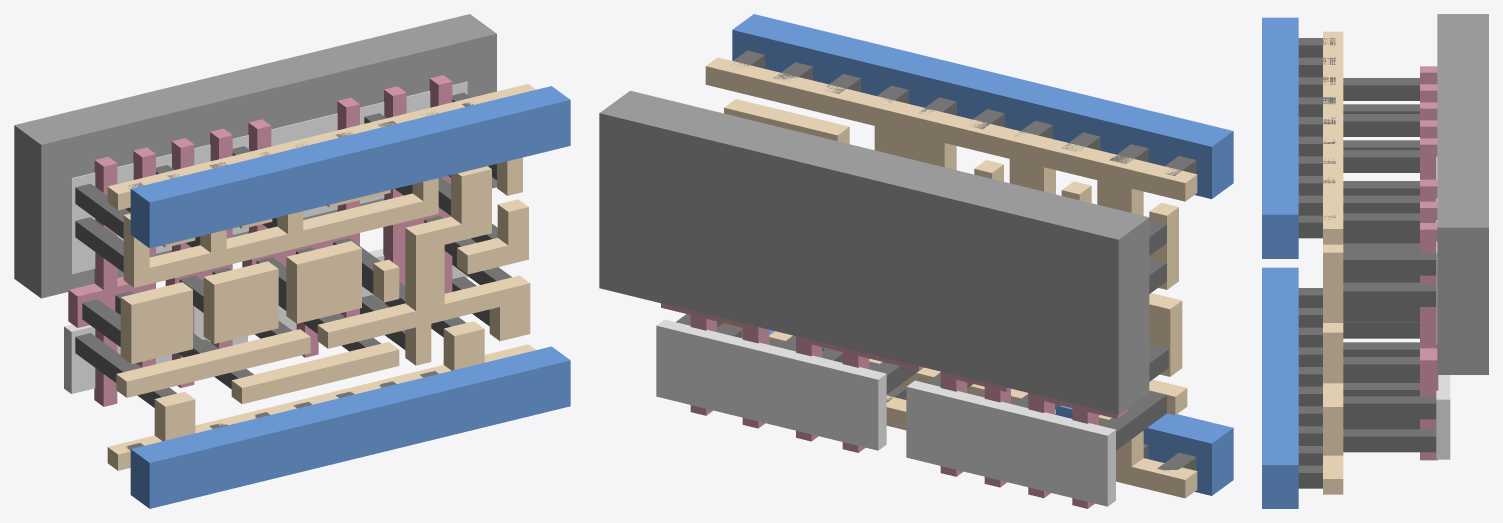
The model's file is sky130_fd_sc_hd__a31oi_2.gds.gltf.
3 renders of one model, left to right at view 1: azimuth 30°, elevation 25°; view 2: azimuth 150°, elevation 25°; view 3: azimuth 270°, elevation 25°, orthographic. The views are drawn at different scales.
Visible parts, largest first — view 1: sky130_fd_sc_hd__a31oi_2_li1, sky130_fd_sc_hd__a31oi_2_met1, sky130_fd_sc_hd__a31oi_2_nwell, sky130_fd_sc_hd__a31oi_2_licon, sky130_fd_sc_hd__a31oi_2_poly, sky130_fd_sc_hd__a31oi_2_diff, sky130_fd_sc_hd__a31oi_2_mcon; view 2: sky130_fd_sc_hd__a31oi_2_nwell, sky130_fd_sc_hd__a31oi_2_diff, sky130_fd_sc_hd__a31oi_2_li1, sky130_fd_sc_hd__a31oi_2_met1, sky130_fd_sc_hd__a31oi_2_poly, sky130_fd_sc_hd__a31oi_2_licon, sky130_fd_sc_hd__a31oi_2_mcon; view 3: sky130_fd_sc_hd__a31oi_2_licon, sky130_fd_sc_hd__a31oi_2_nwell, sky130_fd_sc_hd__a31oi_2_met1, sky130_fd_sc_hd__a31oi_2_mcon, sky130_fd_sc_hd__a31oi_2_li1, sky130_fd_sc_hd__a31oi_2_poly, sky130_fd_sc_hd__a31oi_2_diff.
Part boxes in pixels (left/top/right/bottom): sky130_fd_sc_hd__a31oi_2_li1: left=107, top=84, right=535, bottom=470; sky130_fd_sc_hd__a31oi_2_met1: left=130, top=86, right=570, bottom=508; sky130_fd_sc_hd__a31oi_2_nwell: left=14, top=14, right=496, bottom=298; sky130_fd_sc_hd__a31oi_2_licon: left=75, top=92, right=511, bottom=407; sky130_fd_sc_hd__a31oi_2_poly: left=68, top=75, right=452, bottom=406; sky130_fd_sc_hd__a31oi_2_diff: left=64, top=81, right=467, bottom=393; sky130_fd_sc_hd__a31oi_2_mcon: left=126, top=102, right=473, bottom=450; sky130_fd_sc_hd__a31oi_2_nwell: left=599, top=90, right=1149, bottom=414; sky130_fd_sc_hd__a31oi_2_diff: left=656, top=319, right=1115, bottom=506; sky130_fd_sc_hd__a31oi_2_li1: left=705, top=57, right=1197, bottom=498; sky130_fd_sc_hd__a31oi_2_met1: left=732, top=14, right=1233, bottom=495; sky130_fd_sc_hd__a31oi_2_poly: left=661, top=303, right=1128, bottom=508; sky130_fd_sc_hd__a31oi_2_licon: left=676, top=220, right=1168, bottom=450; sky130_fd_sc_hd__a31oi_2_mcon: left=733, top=50, right=1196, bottom=470; sky130_fd_sc_hd__a31oi_2_licon: left=1343, top=78, right=1436, bottom=452; sky130_fd_sc_hd__a31oi_2_nwell: left=1437, top=14, right=1488, bottom=374; sky130_fd_sc_hd__a31oi_2_met1: left=1262, top=17, right=1298, bottom=508; sky130_fd_sc_hd__a31oi_2_mcon: left=1298, top=38, right=1335, bottom=488; sky130_fd_sc_hd__a31oi_2_li1: left=1323, top=31, right=1343, bottom=494; sky130_fd_sc_hd__a31oi_2_poly: left=1420, top=66, right=1438, bottom=460; sky130_fd_sc_hd__a31oi_2_diff: left=1436, top=156, right=1450, bottom=459.
Size of the model in its own units: 4.98 by 3.2 by 2.24.
